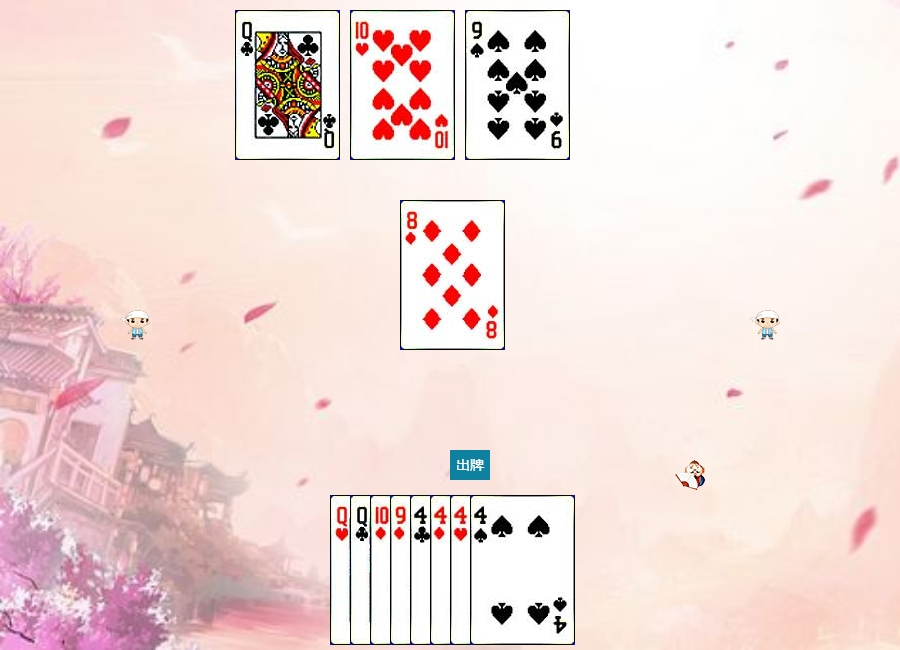10~1: (370, 495, 475, 645)
10~3: (350, 10, 455, 160)
12~2: (235, 10, 340, 160), (350, 495, 455, 645)
12~3: (330, 495, 435, 645)
4~1: (430, 495, 535, 645)
4~2: (410, 495, 515, 645)
4~3: (450, 495, 555, 645)
4~4: (470, 495, 575, 645)
8~1: (400, 200, 505, 350)
9~1: (390, 495, 495, 645)
9~4: (465, 10, 570, 160)
